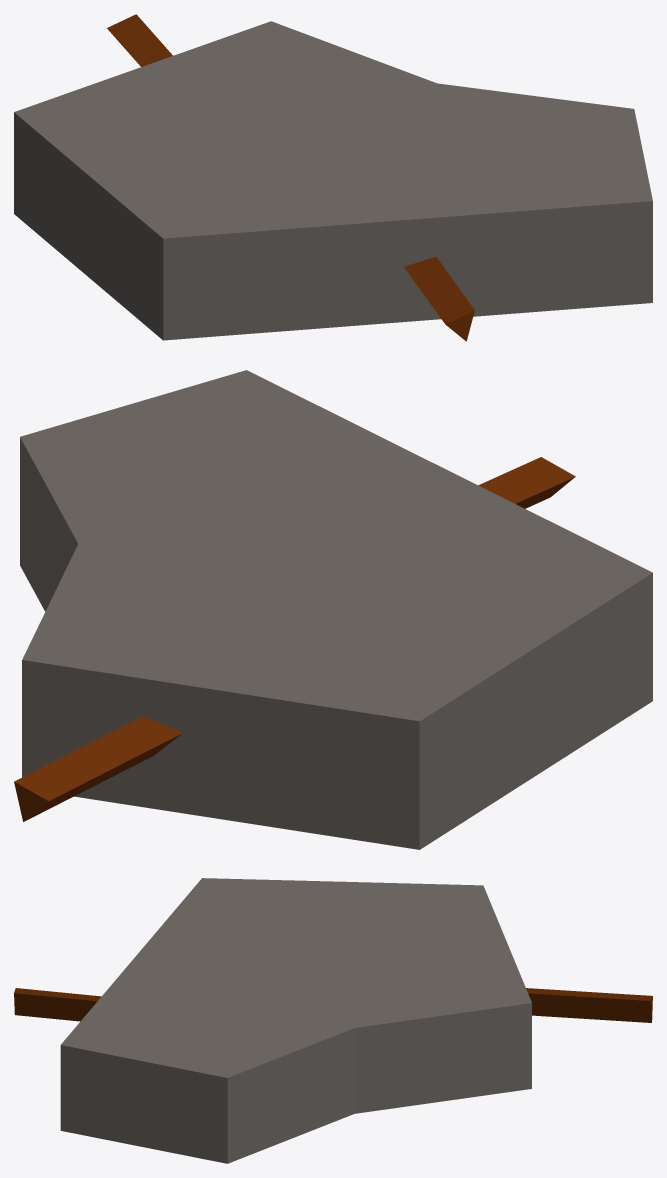
Rendered from Rubble1.glb.
The picture shows the model from 3 angles, top to bottom: view 1: azimuth 30°, elevation 25°; view 2: azimuth 150°, elevation 25°; view 3: azimuth 270°, elevation 25°; orthographic projection. The views are drawn at different scales.
Visible parts, largest first — view 1: Rubble5; view 2: Rubble5; view 3: Rubble5.
Part boxes in pixels (bbox=[...]): Rubble5: bbox=[14, 14, 652, 341]; Rubble5: bbox=[14, 370, 652, 849]; Rubble5: bbox=[14, 878, 652, 1163].
Bounding box in the file's own units: 0.883 × 0.1767 × 1.19.
